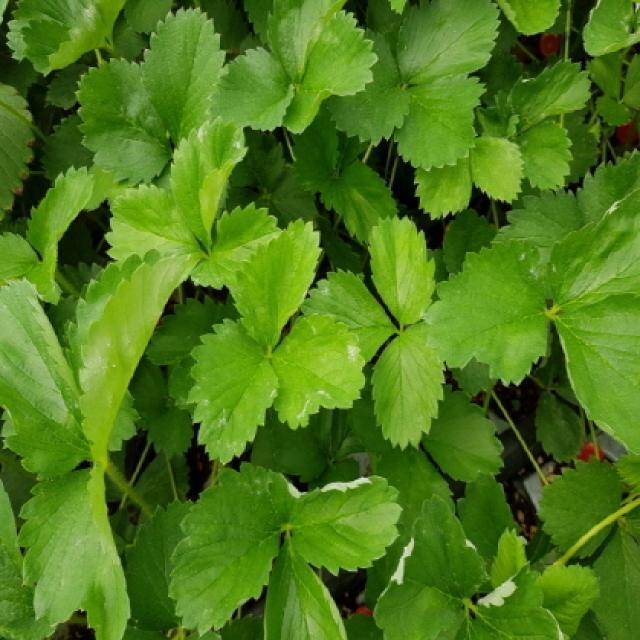powdery_mildew_leaf: (165, 462, 303, 638), (423, 244, 553, 387), (372, 494, 488, 639), (185, 319, 280, 467), (545, 177, 638, 315), (290, 476, 403, 579), (271, 314, 367, 431), (170, 114, 249, 250), (299, 266, 400, 363), (4, 0, 127, 76), (460, 560, 568, 638)
